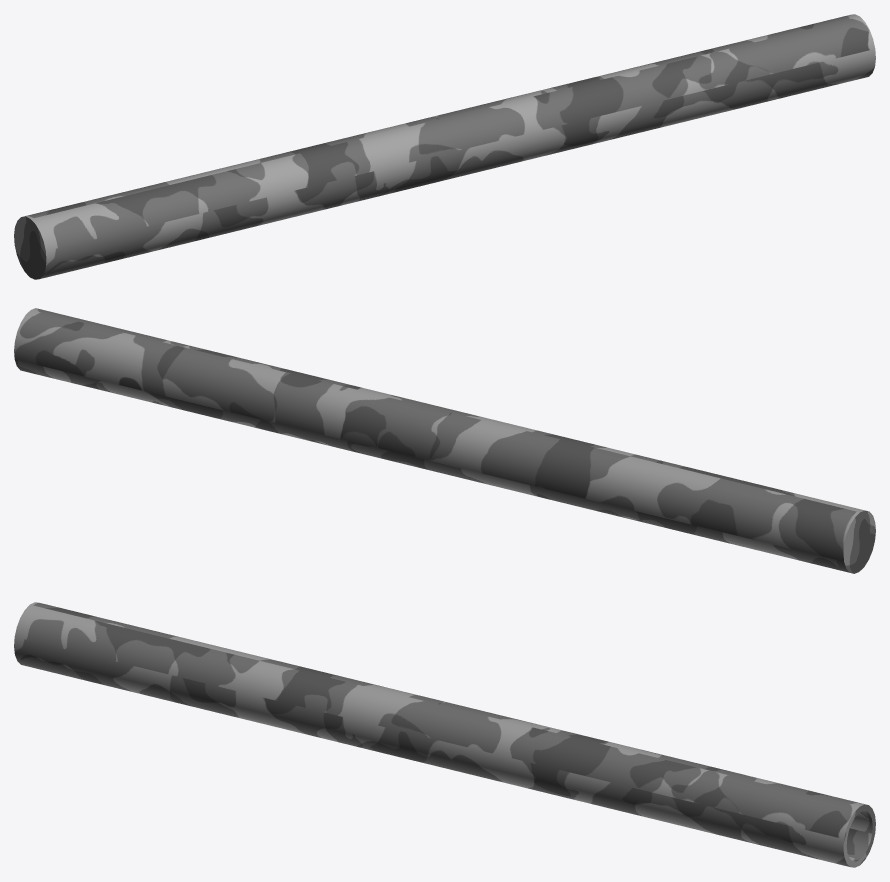
File: TestWeapon.fbx
The picture shows the model from 3 angles, top to bottom: view 1: azimuth 30°, elevation 25°; view 2: azimuth 150°, elevation 25°; view 3: azimuth 330°, elevation 25°; orthographic projection.
Parts seen in each view (by area): view 1: pCylinder17; view 2: pCylinder17; view 3: pCylinder17.
Part boxes in pixels (<box>): pCylinder17: <box>14,14,875,279</box>; pCylinder17: <box>14,308,875,573</box>; pCylinder17: <box>14,602,875,867</box>.
Size of the model in its own units: 181 by 12.26 by 12.26.
Materials: 1 (1 with a texture image).
